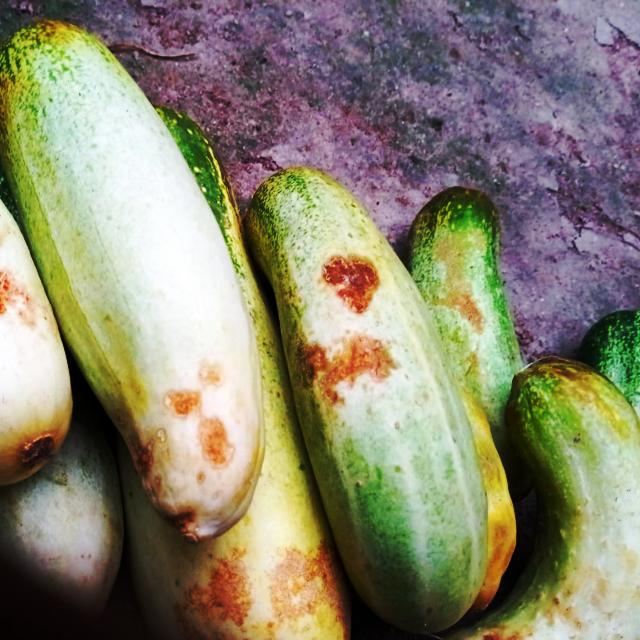Belly-Rot: (129, 360, 241, 534), (171, 541, 352, 639), (298, 249, 401, 408), (436, 234, 491, 338), (0, 254, 38, 333), (483, 620, 525, 640)
